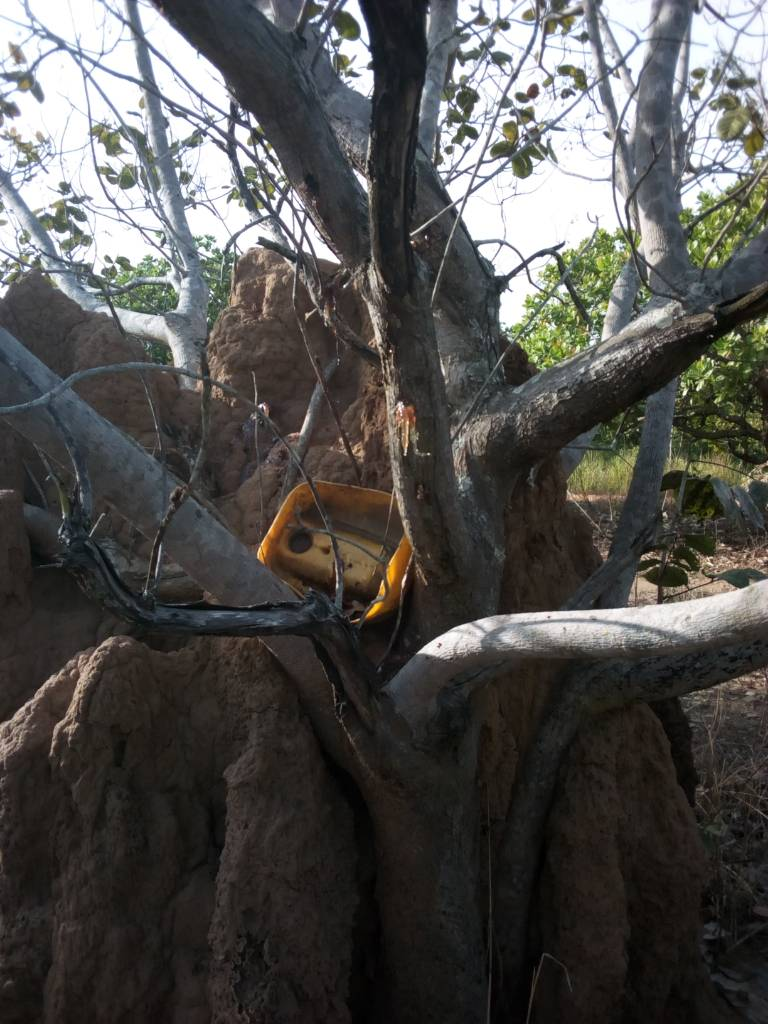Termites: (1, 649, 329, 1024), (354, 771, 525, 1017), (572, 749, 708, 1019)
